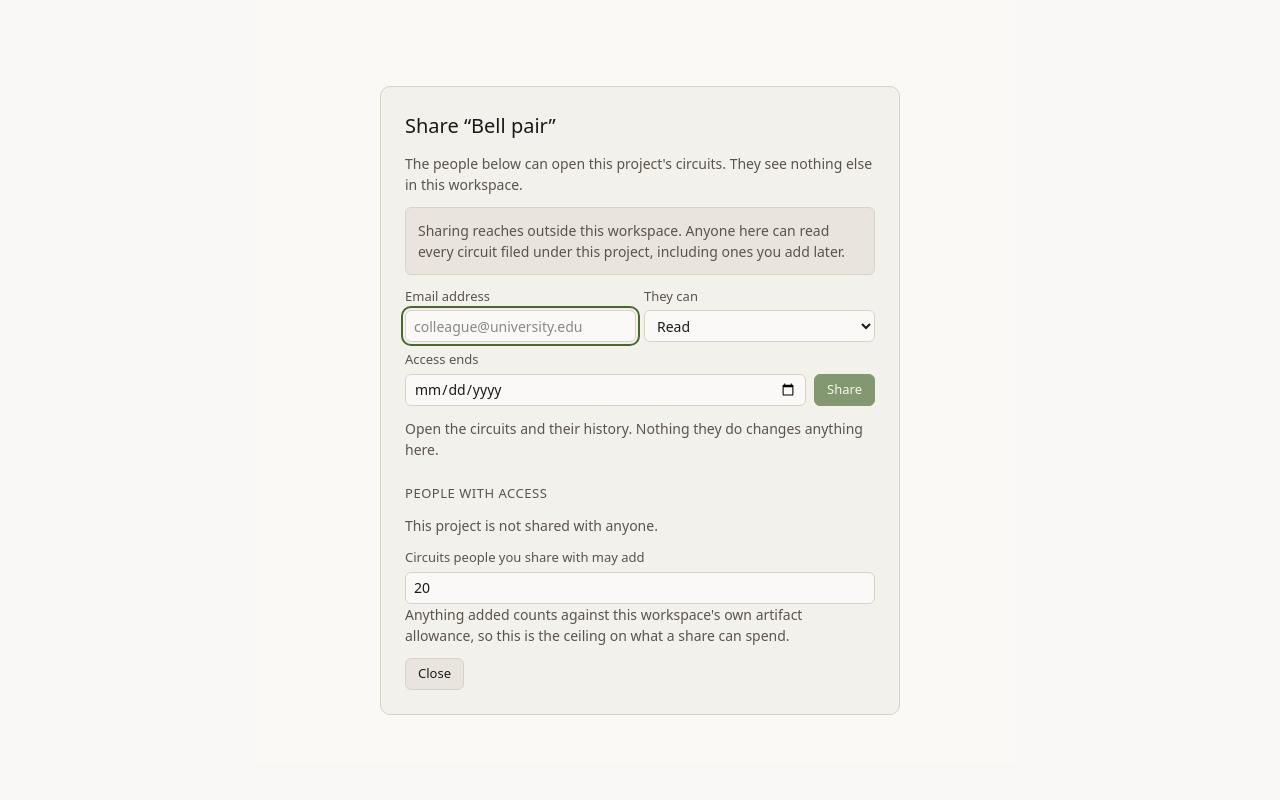
Test case: project share dialog: sharing outside the plan shows the team-plan refusal, not a generic failure
This screenshot has width=1280, height=800.
Expected: the text "This project is not shared with anyone." is shown, [405,516,658,535]
Expected: the form with class "mj-share-form" is shown, [405,286,875,406]
Type "reader@example.com" into the field labelled "Email address" at (520, 326), box [405,310,636,342]
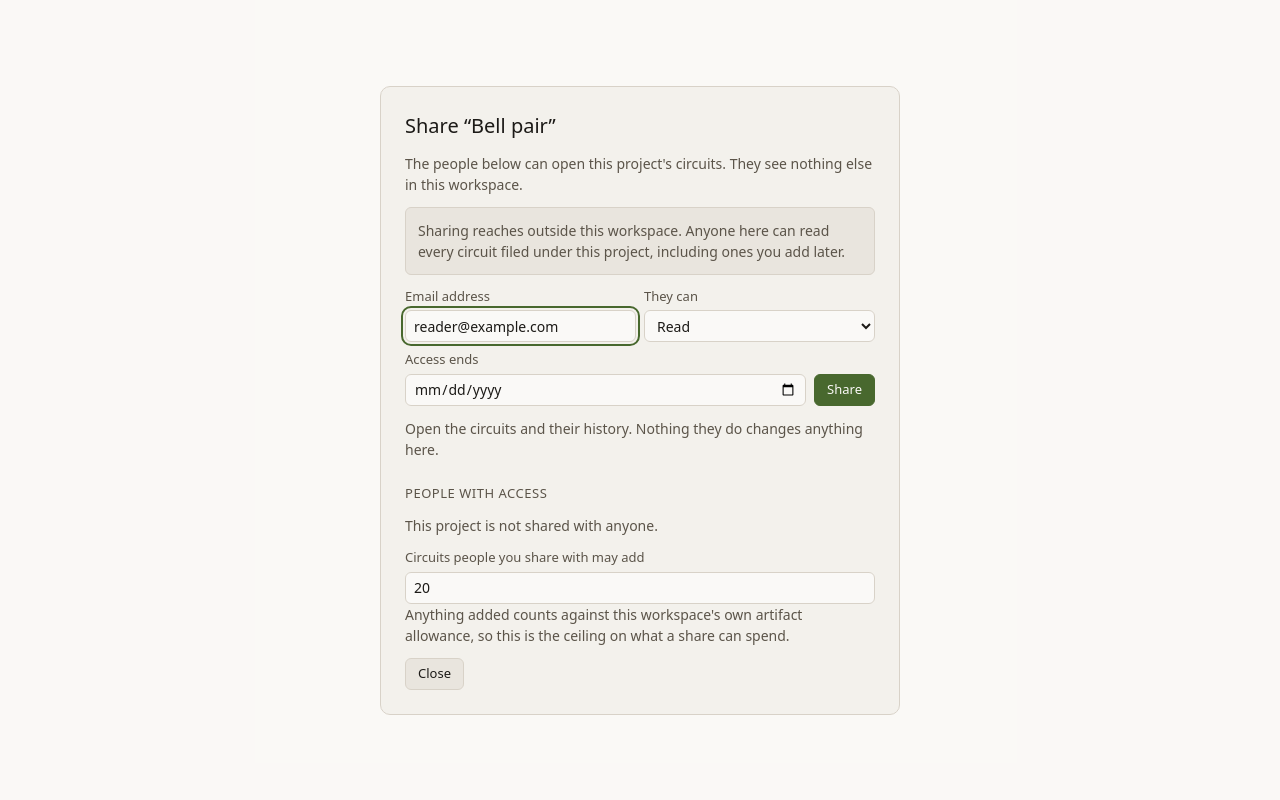
Submit the form with class "mj-share-form", box [405,286,875,406]
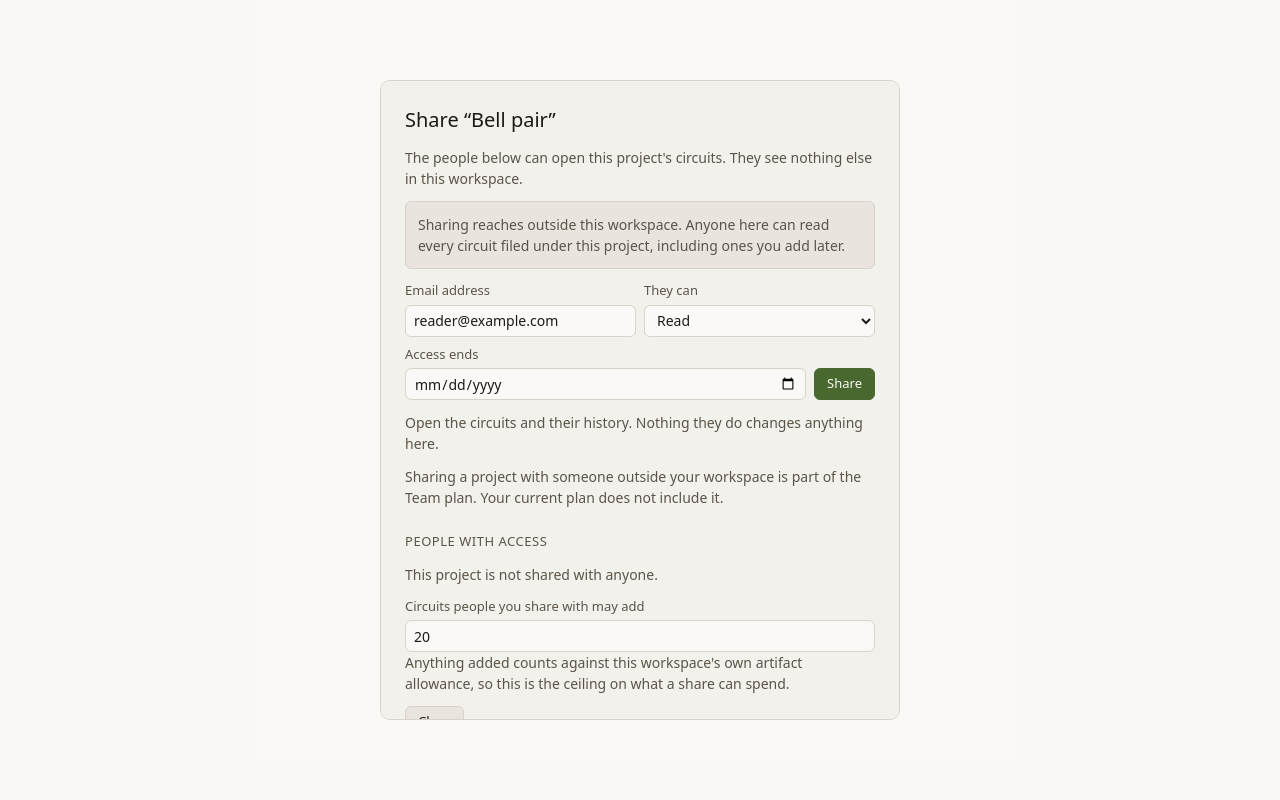
Expected: the text "Sharing a project with someone outside your workspace is part of the Team plan. Your current plan does not include it." is shown, [405,467,861,507]
